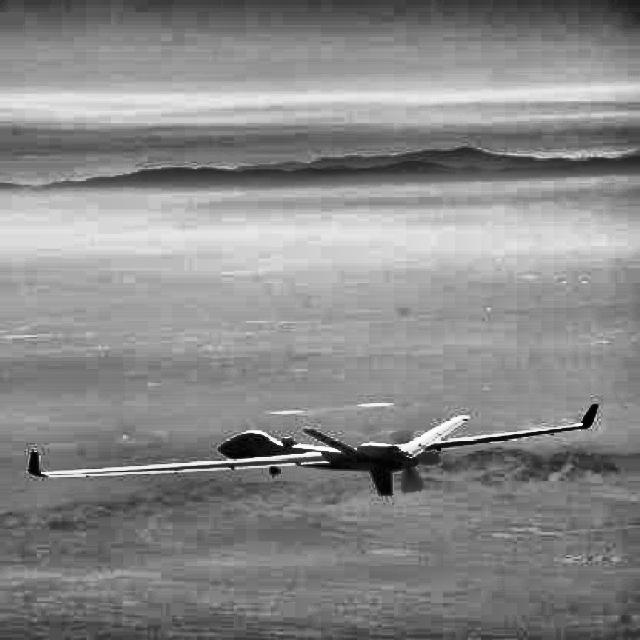MQ9: (27, 404, 598, 496)
